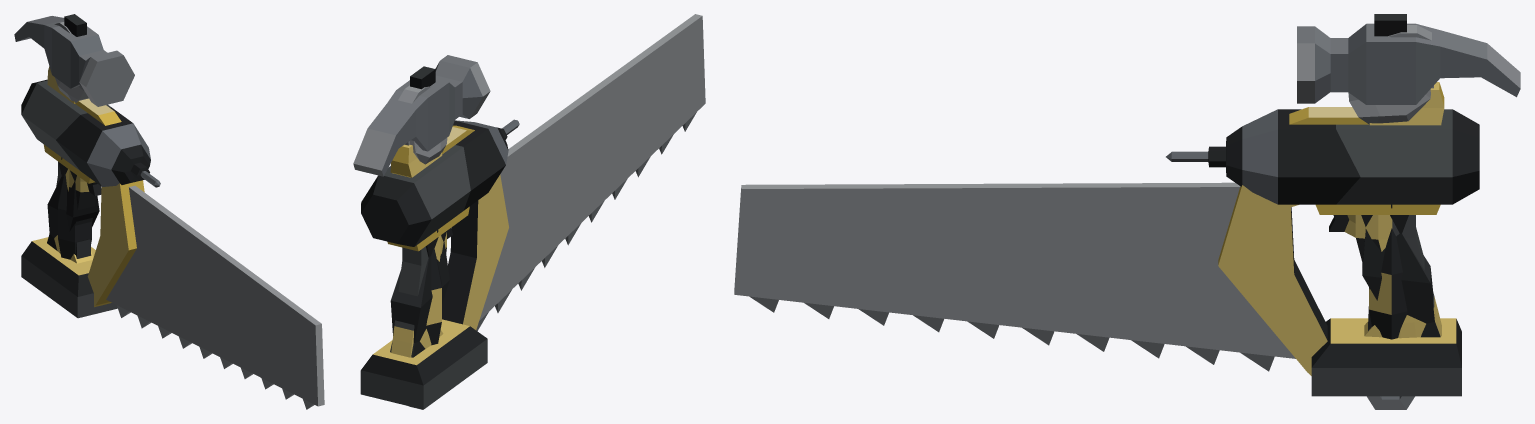
Rendered from tools.fbx.
The picture shows the model from 3 angles, left to right: view 1: azimuth 30°, elevation 25°; view 2: azimuth 150°, elevation 25°; view 3: azimuth 270°, elevation 25°; orthographic projection. The views are drawn at different scales.
Parts seen in each view (by area): view 1: tool_handSaw, tool_drill, tool_hammer, tool_screwdriver, tool_wrench; view 2: tool_handSaw, tool_drill, tool_hammer, tool_pipewrench, tool_screwdriver, tool_wrench; view 3: tool_handSaw, tool_drill, tool_hammer, tool_screwdriver, tool_wrench, tool_pipewrench.
Boxes of the visible parts, x1=… form: tool_handSaw: x1=47, y1=162, x2=324, y2=409; tool_drill: x1=21, y1=79, x2=160, y2=318; tool_hammer: x1=14, y1=14, x2=134, y2=258; tool_screwdriver: x1=58, y1=157, x2=91, y2=259; tool_wrench: x1=55, y1=77, x2=88, y2=102; tool_handSaw: x1=390, y1=14, x2=705, y2=357; tool_drill: x1=360, y1=119, x2=519, y2=409; tool_hammer: x1=353, y1=55, x2=490, y2=176; tool_pipewrench: x1=390, y1=85, x2=442, y2=177; tool_screwdriver: x1=426, y1=230, x2=441, y2=345; tool_wrench: x1=409, y1=138, x2=447, y2=409; tool_handSaw: x1=734, y1=182, x2=1440, y2=375; tool_drill: x1=1166, y1=107, x2=1479, y2=396; tool_hammer: x1=1297, y1=14, x2=1520, y2=330; tool_screwdriver: x1=1369, y1=204, x2=1407, y2=339; tool_wrench: x1=1348, y1=89, x2=1430, y2=409; tool_pipewrench: x1=1369, y1=25, x2=1444, y2=125.
Size of the model in its own units: 8.51 by 38.09 by 69.89.
